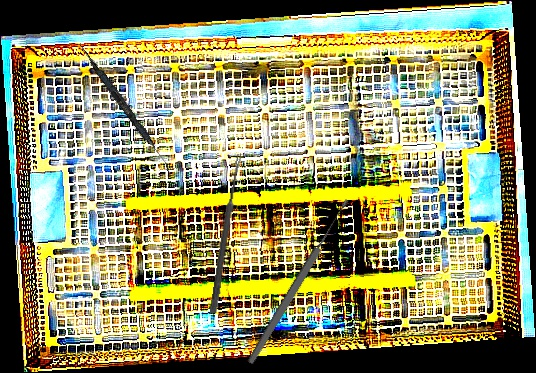Spatula Surgical: (74, 42, 176, 173)
Surgical Spoon: (245, 197, 353, 366), (209, 154, 243, 314)
